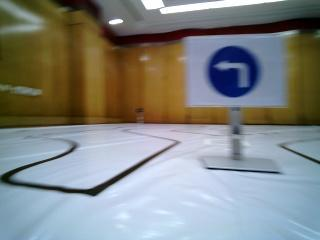left: (182, 42, 270, 104)
